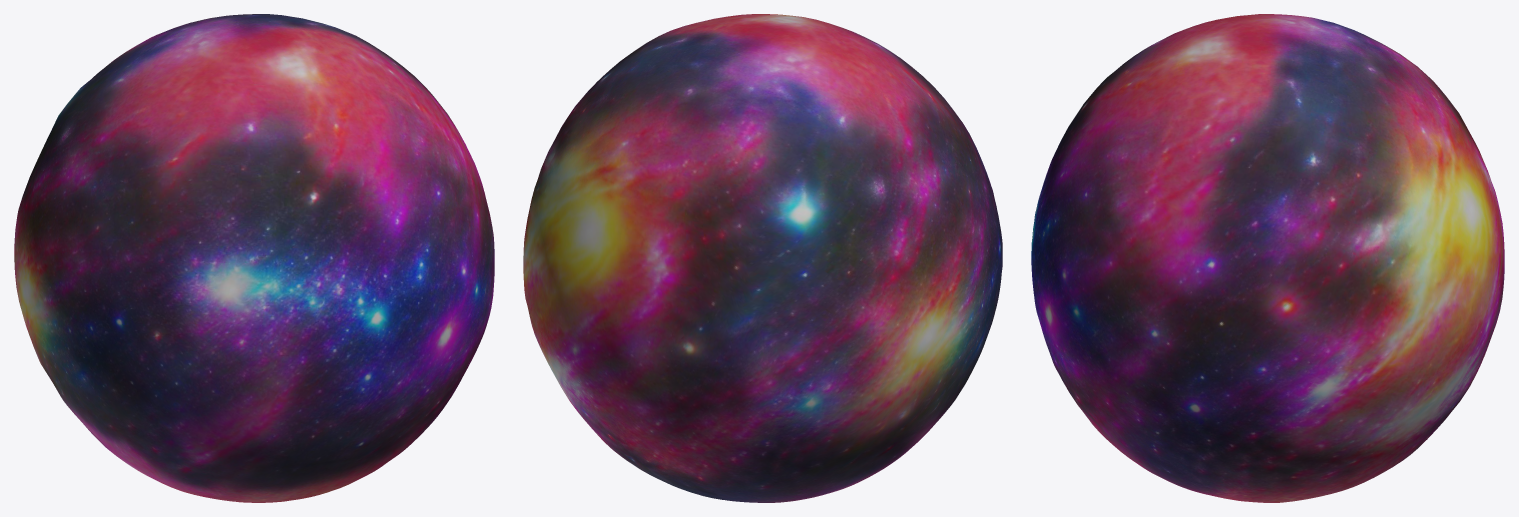
Rendered from EsferaCOlores.fbx.
3 views of the same model, side by side, from view 1: azimuth 30°, elevation 25°; view 2: azimuth 150°, elevation 25°; view 3: azimuth 270°, elevation 25° (orthographic).
Parts seen in each view (by area): view 1: mesh; view 2: mesh; view 3: mesh.
Part boxes in pixels (bbox=[...]): mesh: bbox=[14, 14, 494, 502]; mesh: bbox=[523, 14, 1002, 502]; mesh: bbox=[1031, 14, 1504, 502].
Bounding box in the file's own units: 96.94 × 99.95 × 97.03.
1 material, 1 textured.
